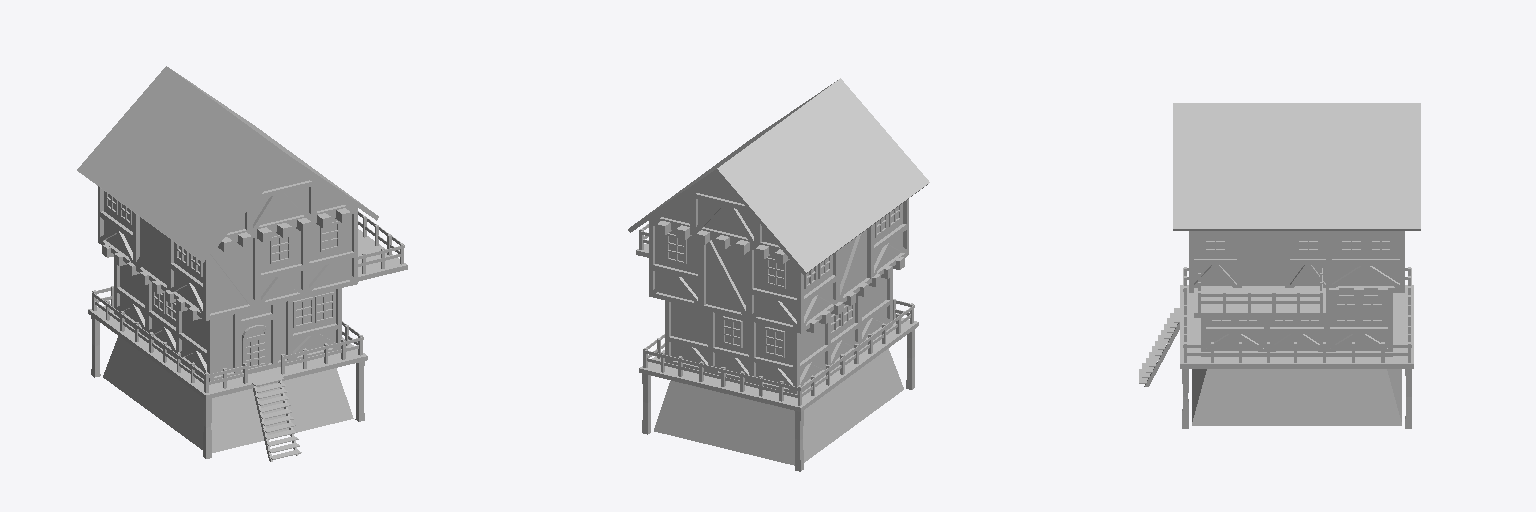
The model's file is casa.obj.
3 views of the same model, side by side, from view 1: azimuth 30°, elevation 25°; view 2: azimuth 150°, elevation 25°; view 3: azimuth 270°, elevation 25° (orthographic).
Visible parts, largest first — view 1: Box001; view 2: Box001; view 3: Box001.
Part boxes in pixels (left/top/right/bottom): Box001: left=77, top=66, right=407, bottom=461; Box001: left=628, top=78, right=929, bottom=471; Box001: left=1139, top=103, right=1420, bottom=428.
Size of the model in its own units: 74.73 by 94.13 by 83.62.